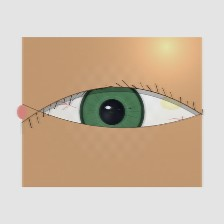pinguecula_lesion: (149, 85, 195, 121)
